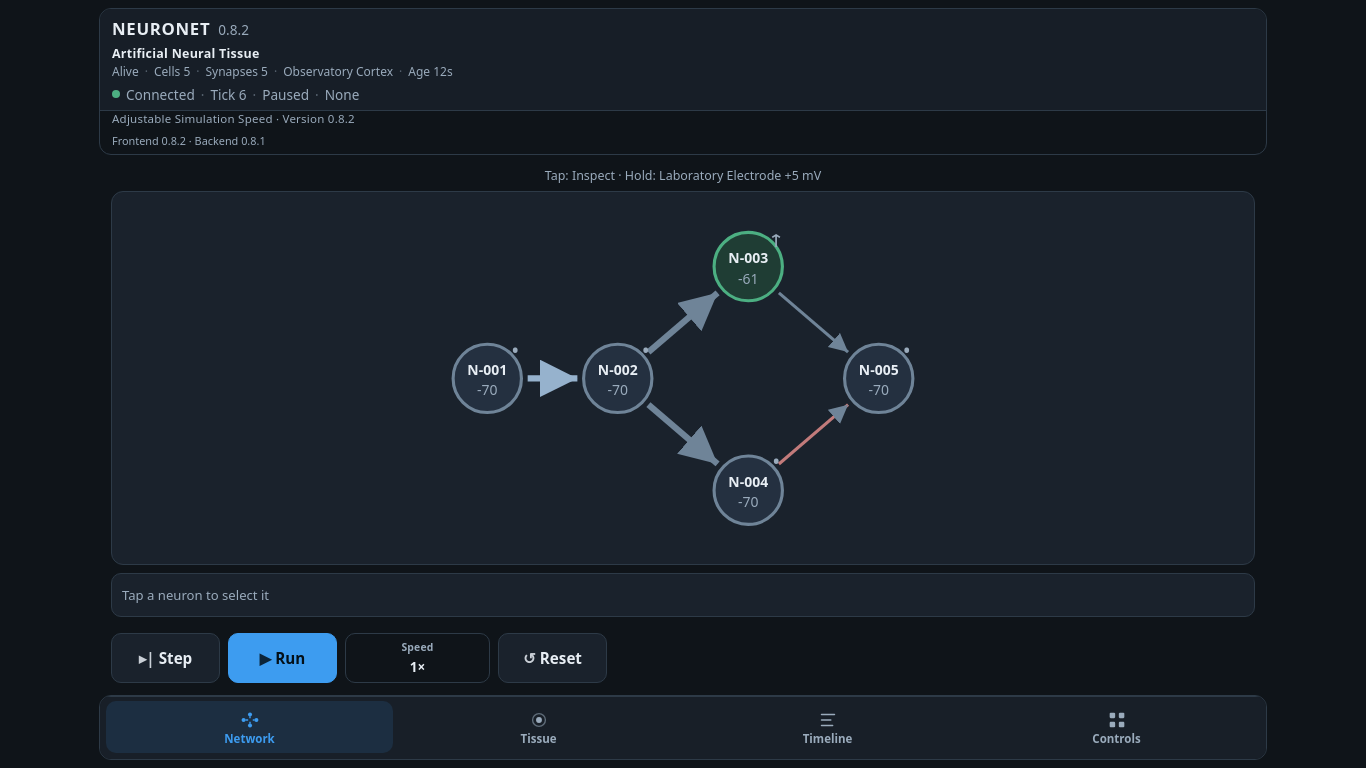
Scenario: Mission Control page › exposes Development display mode with distinct candidate paths from backend data
expect the text "Connected" is shown: met, box [126,85,195,104]
Click the button with aria-label "Tissue view" at (538, 727), box [395,701,682,753]
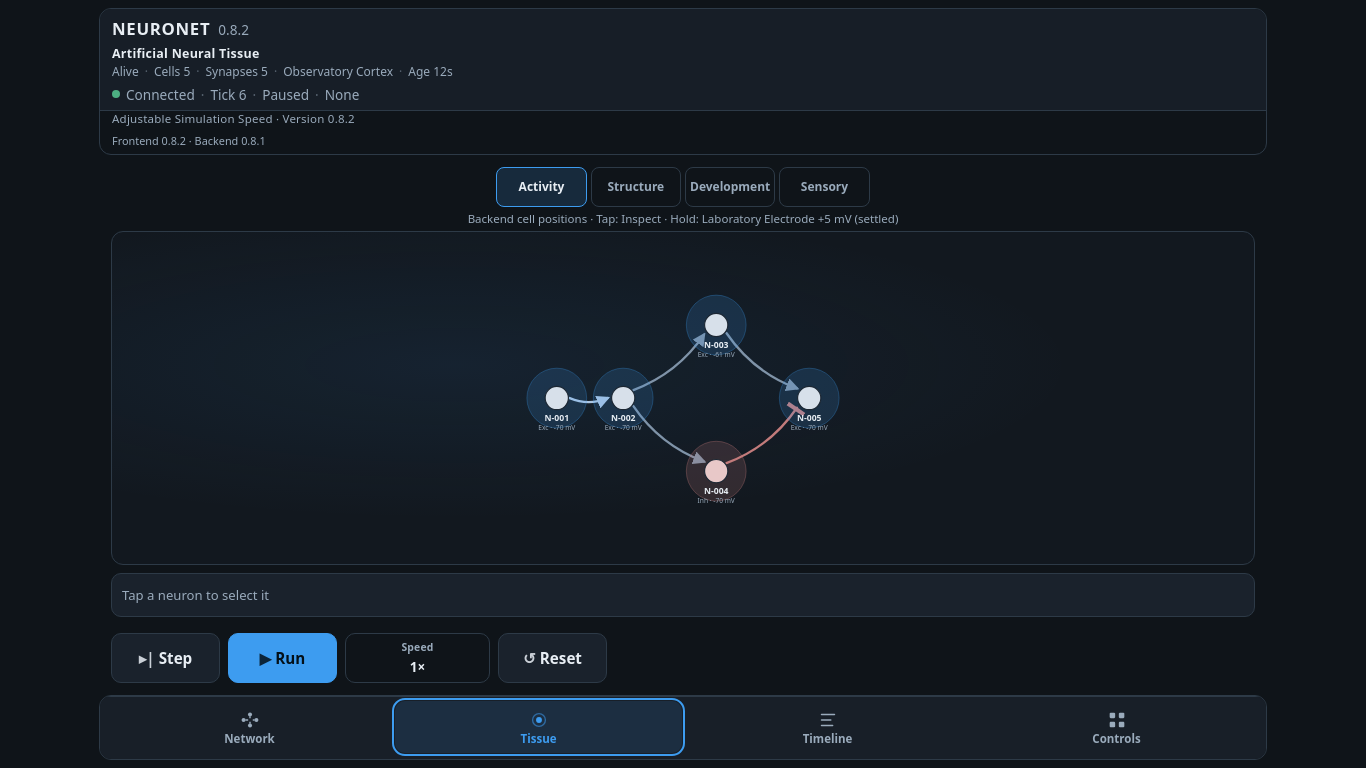
expect the element with test id "tissue-display-mode" is shown: met, box [496,167,870,207]
Click the tab with test id "tissue-mode-development" at (730, 187), box [685,167,775,207]
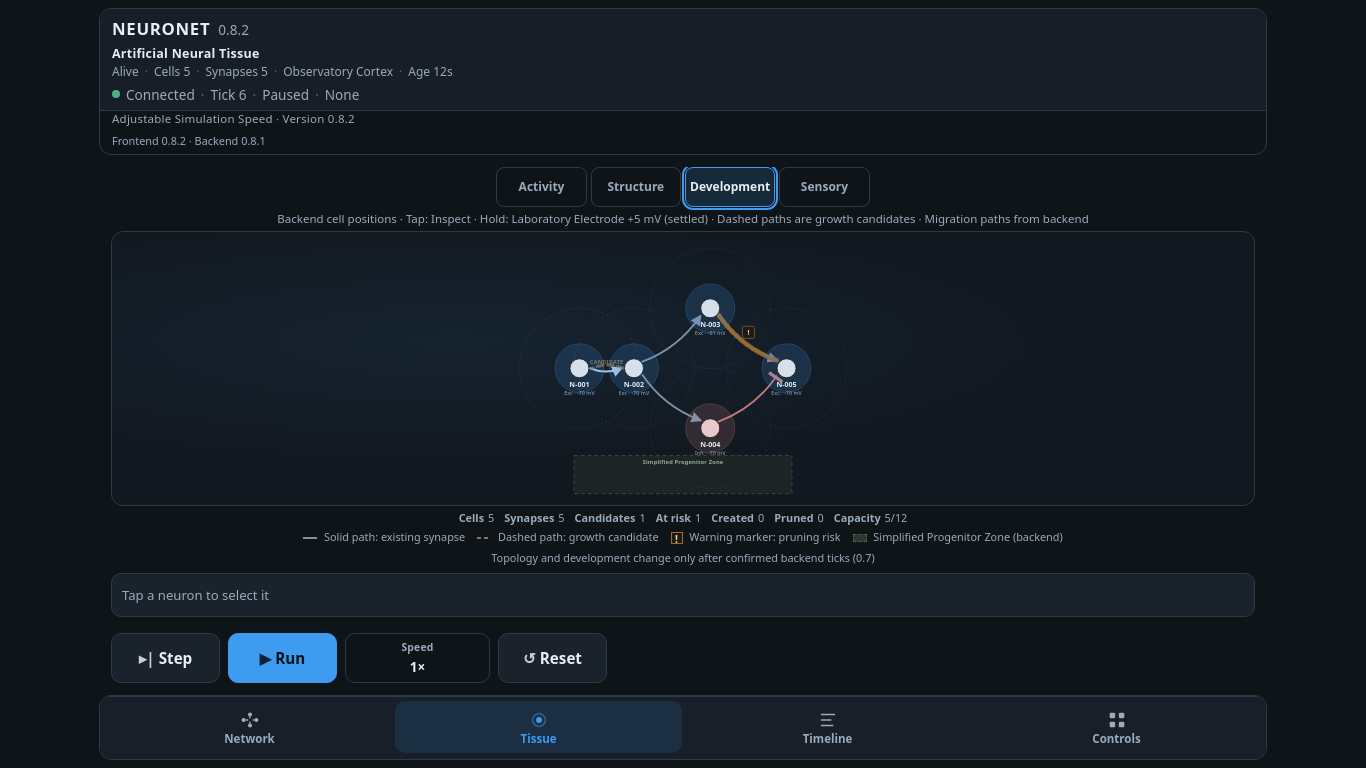
expect the element with test id "tissue-candidate-CANDIDATE-NEURON-002-NEURON-001" is shown: met, box [590,358,623,368]
expect the list with test id "tissue-development-legend" shows "Dashed path: growth candidate": met, box [495,529,659,544]
